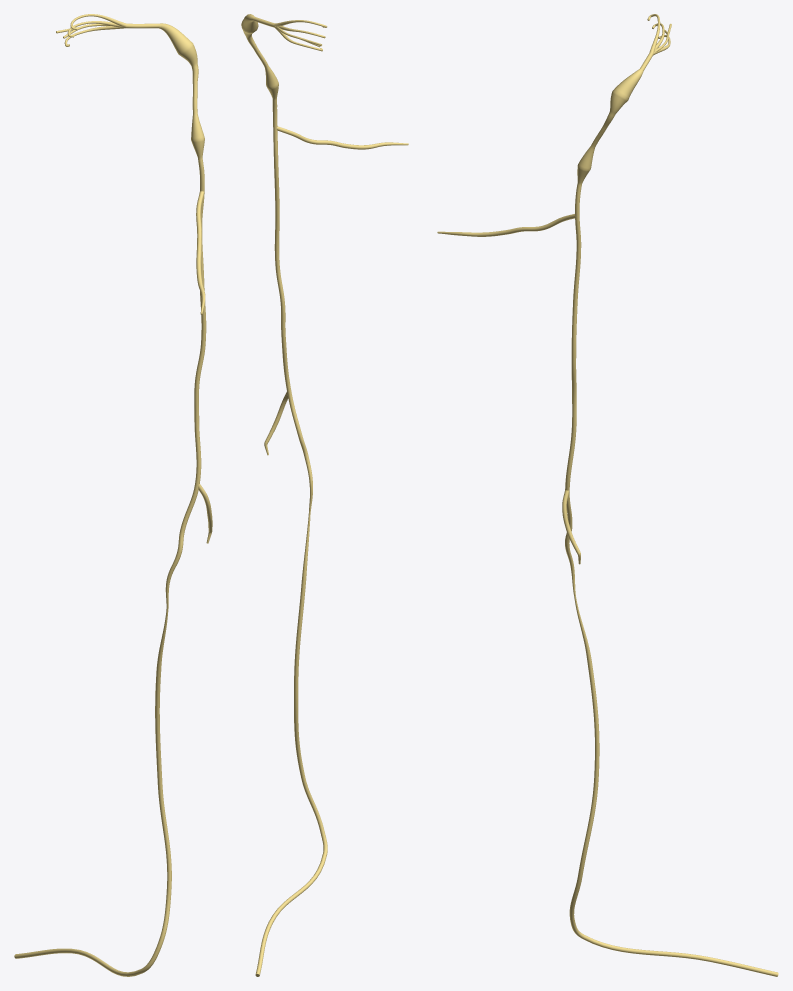
3 renders of one model, left to right at view 1: azimuth 30°, elevation 25°; view 2: azimuth 150°, elevation 25°; view 3: azimuth 270°, elevation 25°, orthographic. The views are drawn at different scales.
Parts seen in each view (by area): view 1: ZA_f2224d84526b1369; view 2: ZA_f2224d84526b1369; view 3: ZA_f2224d84526b1369.
Boxes of the visible parts, x1=… form: ZA_f2224d84526b1369: x1=14, y1=14, x2=212, y2=976; ZA_f2224d84526b1369: x1=241, y1=14, x2=408, y2=976; ZA_f2224d84526b1369: x1=437, y1=14, x2=778, y2=976.
Bounding box in the file's own units: 0.0273 × 0.2297 × 0.0739.
